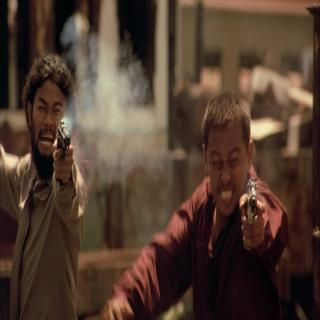gun: (238, 186, 270, 244), (54, 132, 78, 190)
